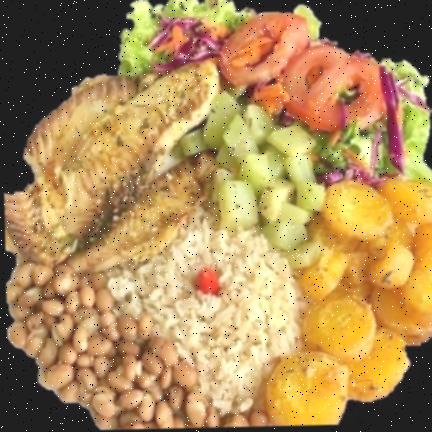beans: (6, 259, 273, 430)
cassava: (261, 174, 432, 426)
fish: (4, 56, 220, 274)
green_vegetables: (178, 89, 331, 263)
rice: (107, 215, 304, 414)
salad: (318, 52, 432, 187), (116, 0, 247, 87)
tomato: (223, 11, 400, 133)
